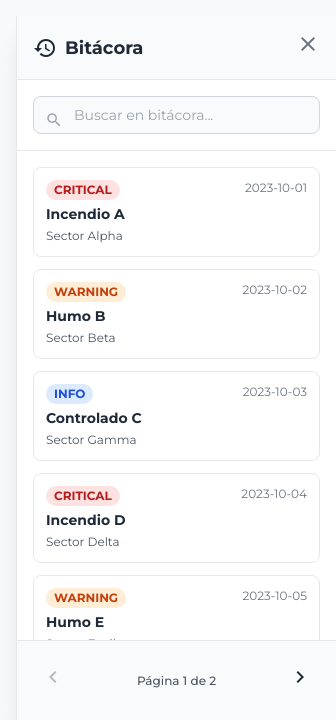
SidebarRight - Lógica de Filtrado y Paginación › Filtra eventos por título correctamente
Type "Incendio" into the field with placeholder "Buscar en bitácora...".
click(176, 115); type("Incendio")  # box [33,96,320,134]
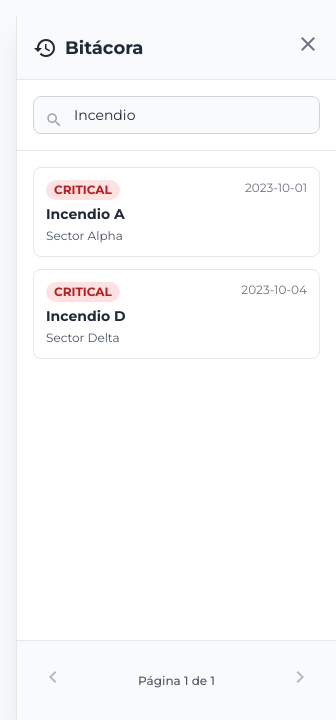
Expected: the heading "Incendio A" is shown, [46,205,125,223]
Expected: the heading "Humo B" is gone
